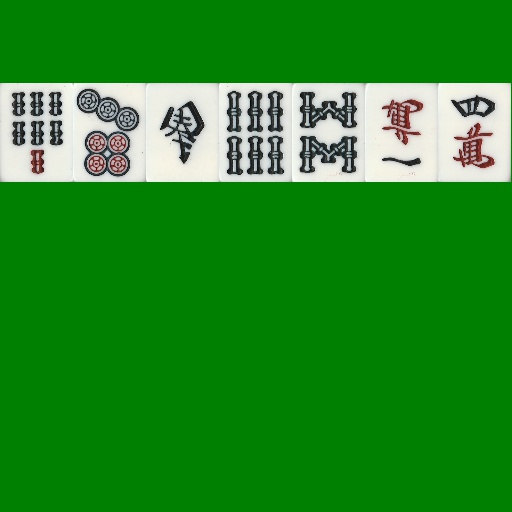1m: (365, 83, 438, 182)
4m: (438, 83, 511, 182)
6s: (219, 83, 292, 182)
7p: (73, 83, 146, 182)
7s: (0, 83, 73, 182)
8s: (292, 83, 365, 182)
south: (146, 83, 219, 182)
